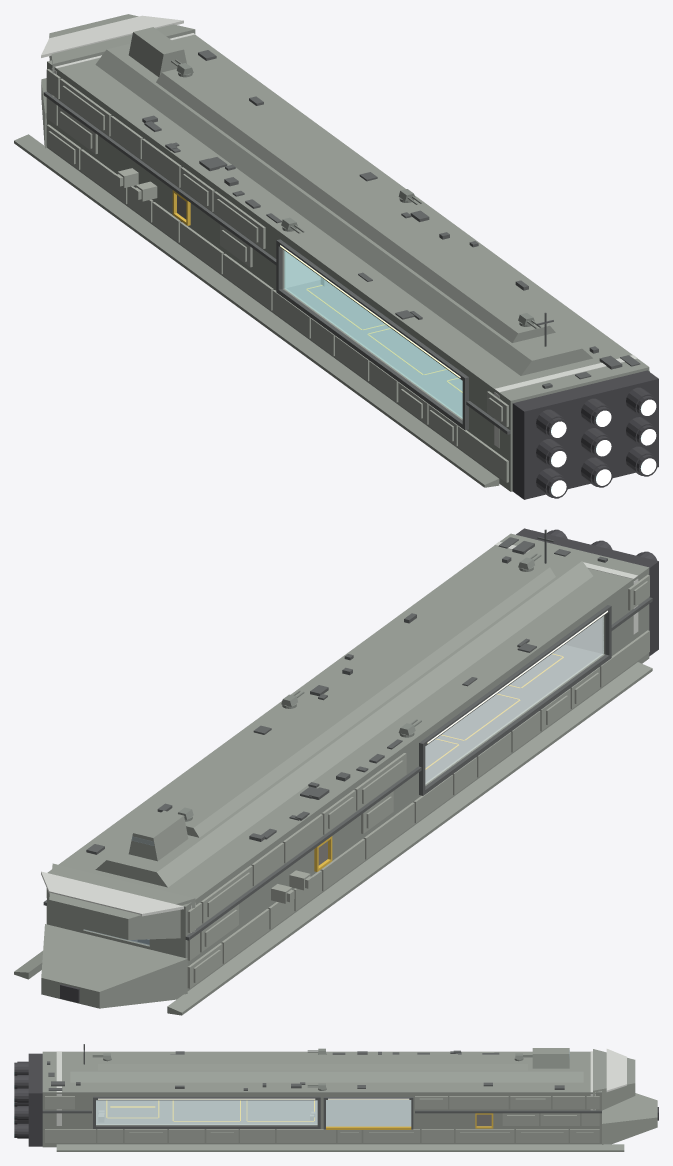
File: ship_MEDIUM_v2.glb
3 views of the same model, one above another, from view 1: azimuth 30°, elevation 25°; view 2: azimuth 150°, elevation 25°; view 3: azimuth 270°, elevation 25° (orthographic). The views are drawn at different scales.
Visible parts, largest first — view 1: MEDIUM_Hull-col, MEDIUM_Armor, MEDIUM_Engines, MEDIUM_HangarShield_Port, MEDIUM_Decks-col, MEDIUM_Trim, MEDIUM_Accent, MEDIUM_Details, MEDIUM_EngineGlow, MEDIUM_Hazard, MEDIUM_Interior-col; view 2: MEDIUM_Hull-col, MEDIUM_Armor, MEDIUM_HangarShield_Port, MEDIUM_Decks-col, MEDIUM_Trim, MEDIUM_Accent, MEDIUM_Details, MEDIUM_Engines, MEDIUM_Interior-col, MEDIUM_Hazard; view 3: MEDIUM_Hull-col, MEDIUM_Armor, MEDIUM_HangarShield_Starboard, MEDIUM_Decks-col, MEDIUM_Trim, MEDIUM_Engines, MEDIUM_CargoBayShield, MEDIUM_CargoBayDoor-col, MEDIUM_Accent, MEDIUM_Hazard, MEDIUM_Details, MEDIUM_Lights (+1 smaller).
Boxes of the visible parts, x1,y1,x2,y2 form: MEDIUM_Hull-col: (14,14,649,491); MEDIUM_Armor: (46,69,649,482); MEDIUM_Engines: (512,370,658,499); MEDIUM_HangarShield_Port: (284,251,462,418); MEDIUM_Decks-col: (286,280,462,416); MEDIUM_Trim: (43,91,510,434); MEDIUM_Accent: (41,15,637,447); MEDIUM_Details: (142,50,640,388); MEDIUM_EngineGlow: (551,399,656,496); MEDIUM_Hazard: (172,190,462,392); MEDIUM_Interior-col: (286,252,320,287); MEDIUM_Hull-col: (14,533,652,1015); MEDIUM_Armor: (46,574,649,988); MEDIUM_HangarShield_Port: (425,616,603,784); MEDIUM_Decks-col: (135,645,601,941); MEDIUM_Trim: (43,597,652,940); MEDIUM_Accent: (41,541,638,932); MEDIUM_Details: (86,529,607,854); MEDIUM_Engines: (60,528,658,1002); MEDIUM_Interior-col: (565,617,601,653); MEDIUM_Hazard: (314,653,563,871); MEDIUM_Hull-col: (42,1048,657,1151); MEDIUM_Armor: (45,1096,599,1142); MEDIUM_HangarShield_Starboard: (96,1100,317,1124); MEDIUM_Decks-col: (96,1100,317,1124); MEDIUM_Trim: (42,1096,601,1129); MEDIUM_Engines: (14,1053,658,1146); MEDIUM_CargoBayShield: (326,1100,411,1126); MEDIUM_CargoBayDoor-col: (326,1100,411,1125); MEDIUM_Accent: (56,1049,626,1125); MEDIUM_Hazard: (106,1100,493,1129); MEDIUM_Details: (47,1044,564,1090); MEDIUM_Lights: (98,1098,409,1099).
Size of the model in its own units: 25.8 by 21.4 by 140.
